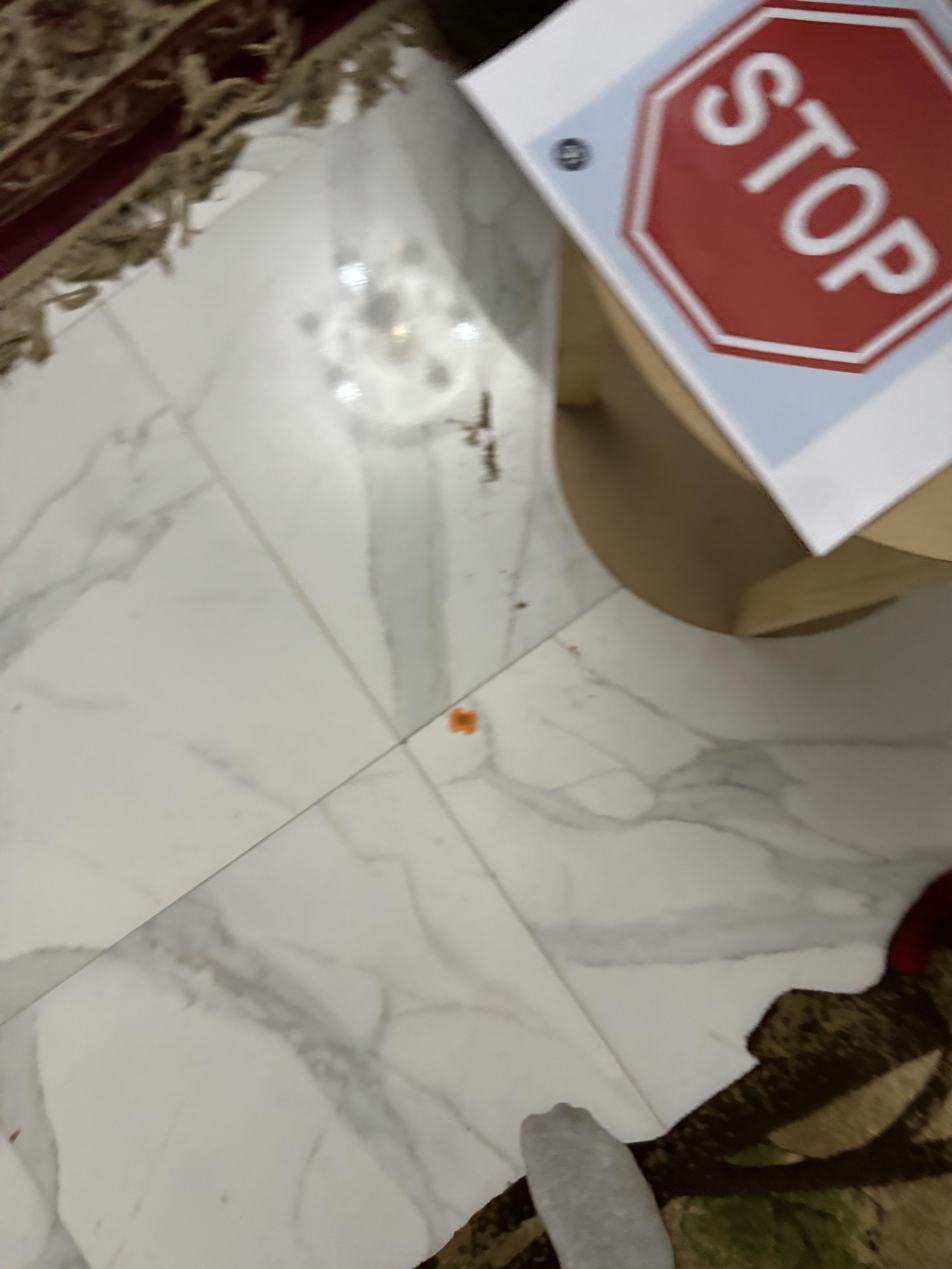Stop: (616, 0, 952, 380)
